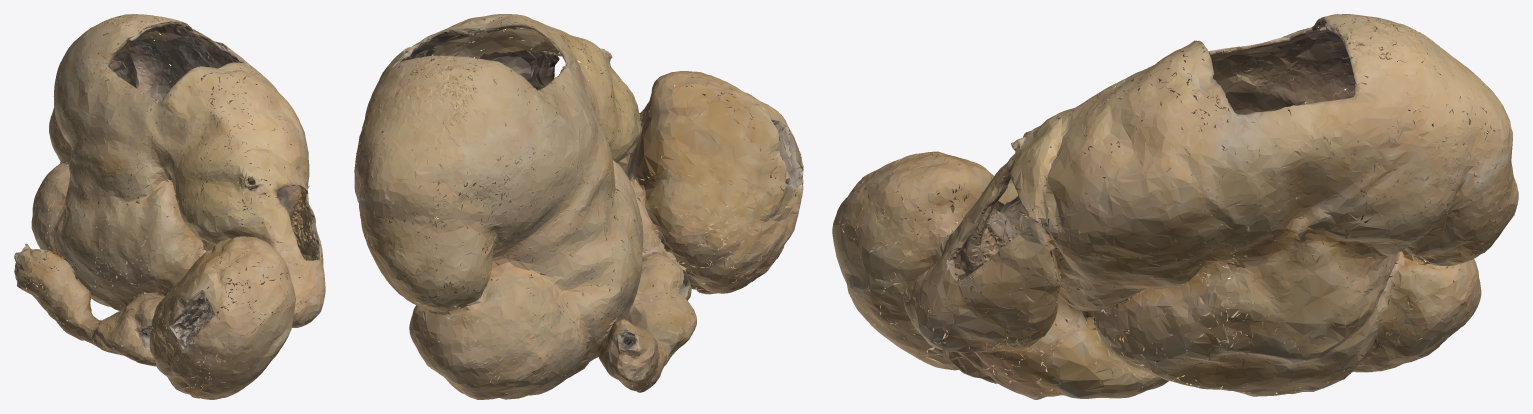
File: vache.glb
3 renders of one model, left to right at view 1: azimuth 30°, elevation 25°; view 2: azimuth 150°, elevation 25°; view 3: azimuth 270°, elevation 25°, orthographic. The views are drawn at different scales.
Parts seen in each view (by area): view 1: Object_2, Object_12, Object_11, Object_10, Object_9, Object_4, Object_6, Object_7, Object_14, Object_5, Object_3, Object_16 (+3 smaller); view 2: Object_3, Object_6, Object_2, Object_11, Object_4, Object_13, Object_12, Object_10, Object_8, Object_16, Object_14, Object_7 (+3 smaller); view 3: Object_10, Object_5, Object_4, Object_9, Object_7, Object_15, Object_11, Object_12, Object_2, Object_8, Object_6, Object_16 (+3 smaller).
Part boxes in pixels (<box>): Object_2: <box>54,14,205,306</box>; Object_12: <box>108,69,323,391</box>; Object_11: <box>115,184,288,359</box>; Object_10: <box>166,62,325,324</box>; Object_9: <box>152,168,325,399</box>; Object_4: <box>33,15,279,391</box>; Object_6: <box>31,33,233,280</box>; Object_7: <box>14,172,223,361</box>; Object_14: <box>39,67,268,388</box>; Object_5: <box>62,33,280,366</box>; Object_3: <box>18,14,187,310</box>; Object_16: <box>15,104,301,338</box>; Object_3: <box>365,55,658,381</box>; Object_6: <box>354,49,655,399</box>; Object_2: <box>426,57,642,340</box>; Object_11: <box>435,71,800,359</box>; Object_4: <box>356,14,803,380</box>; Object_13: <box>355,49,761,326</box>; Object_12: <box>494,15,802,304</box>; Object_10: <box>399,14,664,194</box>; Object_8: <box>426,60,803,395</box>; Object_16: <box>399,98,665,399</box>; Object_14: <box>430,15,803,375</box>; Object_7: <box>414,181,696,392</box>; Object_10: <box>902,40,1264,373</box>; Object_5: <box>1089,94,1510,396</box>; Object_4: <box>877,36,1512,373</box>; Object_9: <box>833,139,1144,383</box>; Object_7: <box>1050,241,1473,396</box>; Object_15: <box>841,66,1261,398</box>; Object_11: <box>859,152,1255,399</box>; Object_12: <box>832,52,1226,399</box>; Object_2: <box>1130,14,1490,362</box>; Object_8: <box>857,165,1418,397</box>; Object_6: <box>1104,58,1502,372</box>; Object_16: <box>1045,59,1494,396</box>.
Size of the model in its own units: 9.88 by 11.32 by 17.56.
